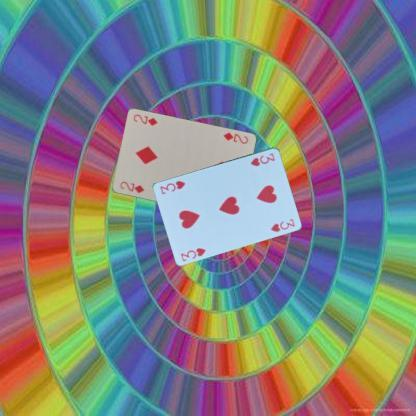2d: (220, 130, 250, 145), (117, 179, 145, 194)
3h: (178, 244, 207, 262), (247, 150, 276, 167)
